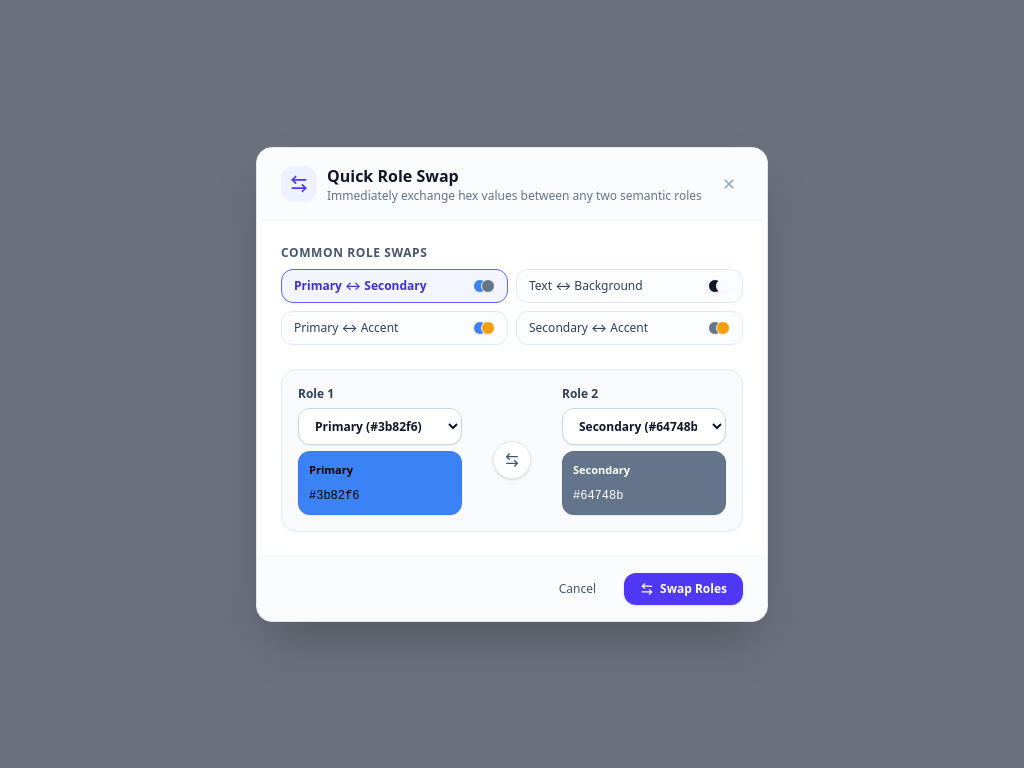
Test case: RoleSwapModal (TT-008) › disables swap button when identical roles are selected
The image size is (1024, 768).
Select "Primary (#3b82f6)" in the dropdown named "Second role to swap" at {"x": 644, "y": 426}, box [562,408,726,444]
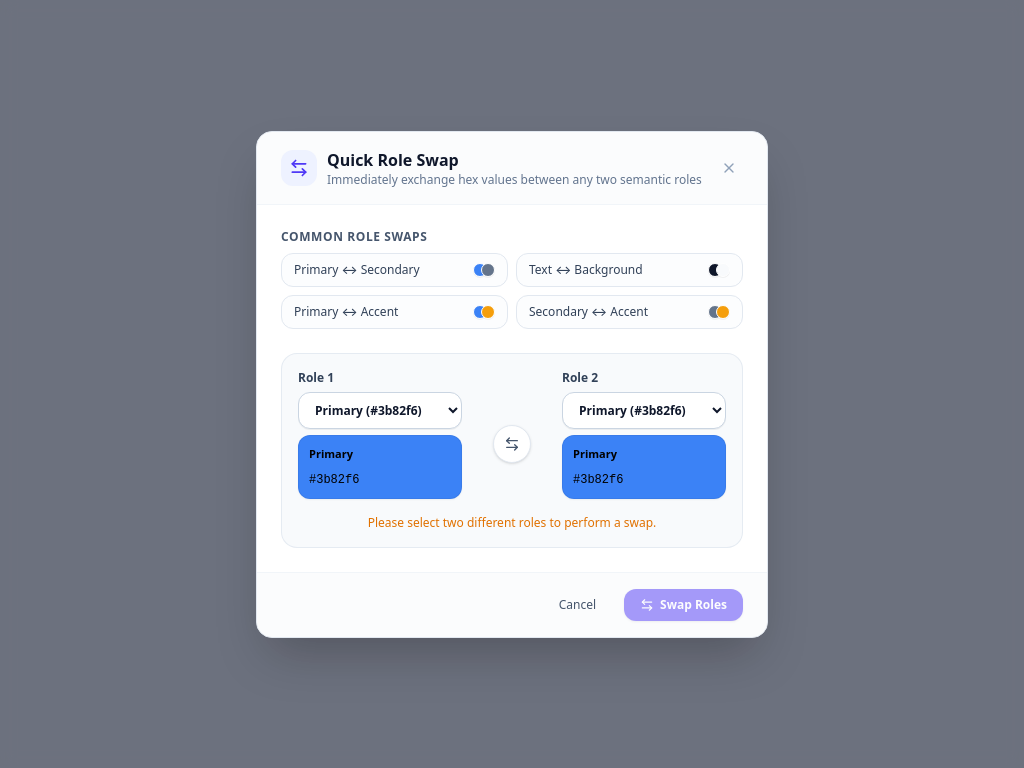
Expected: the button "Swap Roles" is disabled, [624,588,743,620]
Expected: the text "Please select two different roles to perform a swap." is shown, [368,514,656,530]
